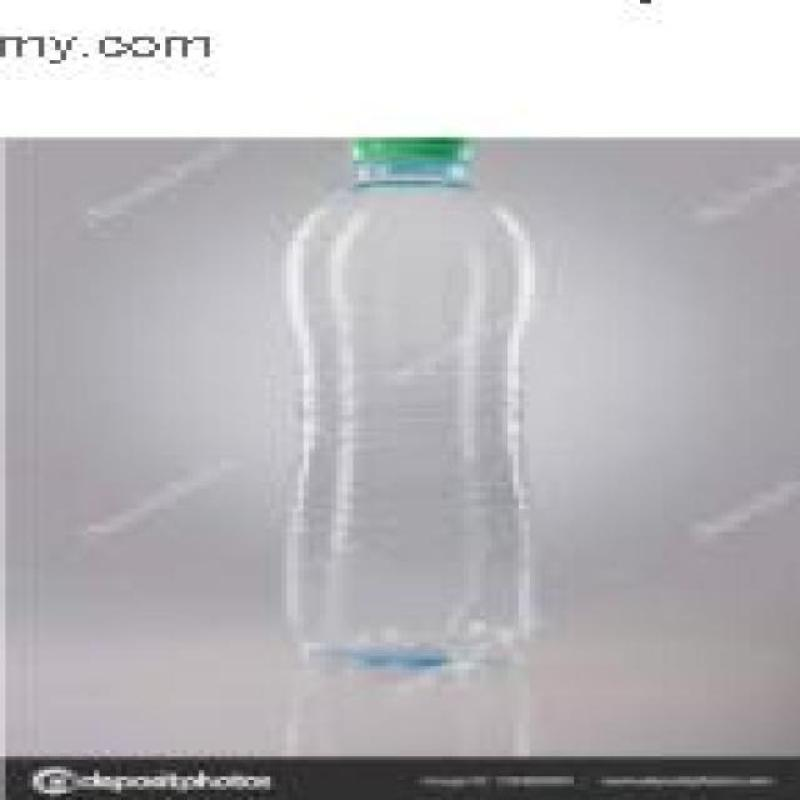botella: (278, 142, 538, 668)
